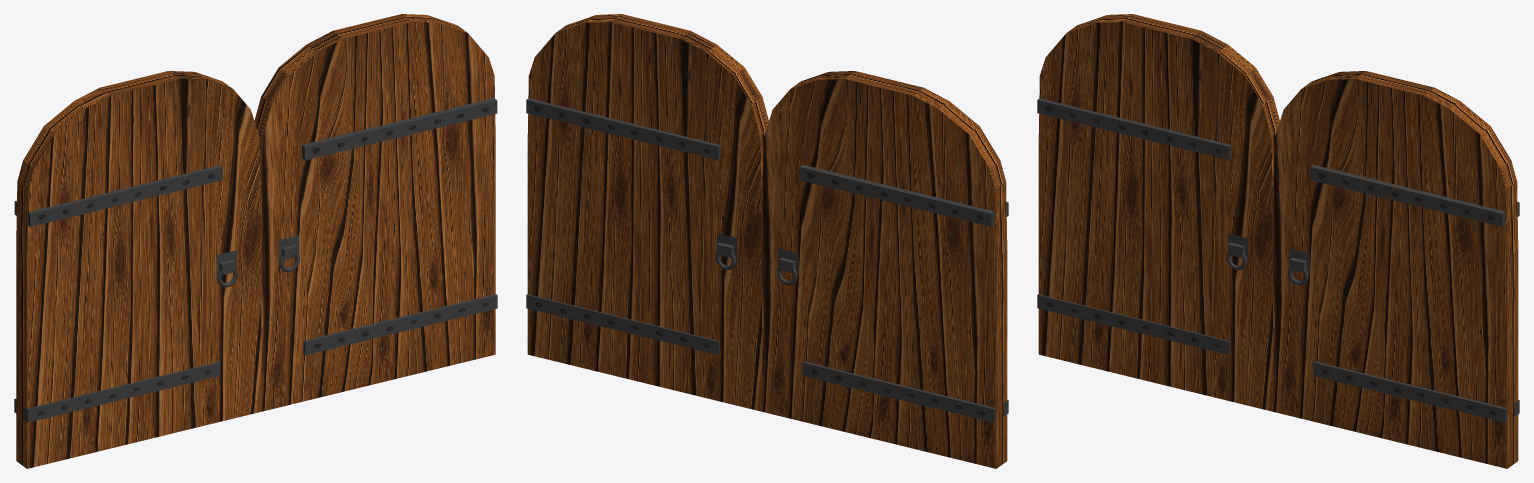
File: cavedoor.glb
3 views of the same model, side by side, from view 1: azimuth 30°, elevation 25°; view 2: azimuth 150°, elevation 25°; view 3: azimuth 330°, elevation 25° (orthographic).
Parts seen in each view (by area): view 1: Cube.001, Cube.005; view 2: Cube.001, Cube.005; view 3: Cube.005, Cube.001.
Part boxes in pixels (box(x1,y1,x2,y2)): Cube.001: box(14, 71, 261, 468); Cube.005: box(254, 14, 497, 411); Cube.001: box(762, 71, 1008, 468); Cube.005: box(526, 14, 768, 411); Cube.005: box(1273, 71, 1519, 468); Cube.001: box(1037, 14, 1279, 411).
Bounding box in the file's own units: 1.37 × 0.985 × 0.0884.
3 materials, 3 textured.
